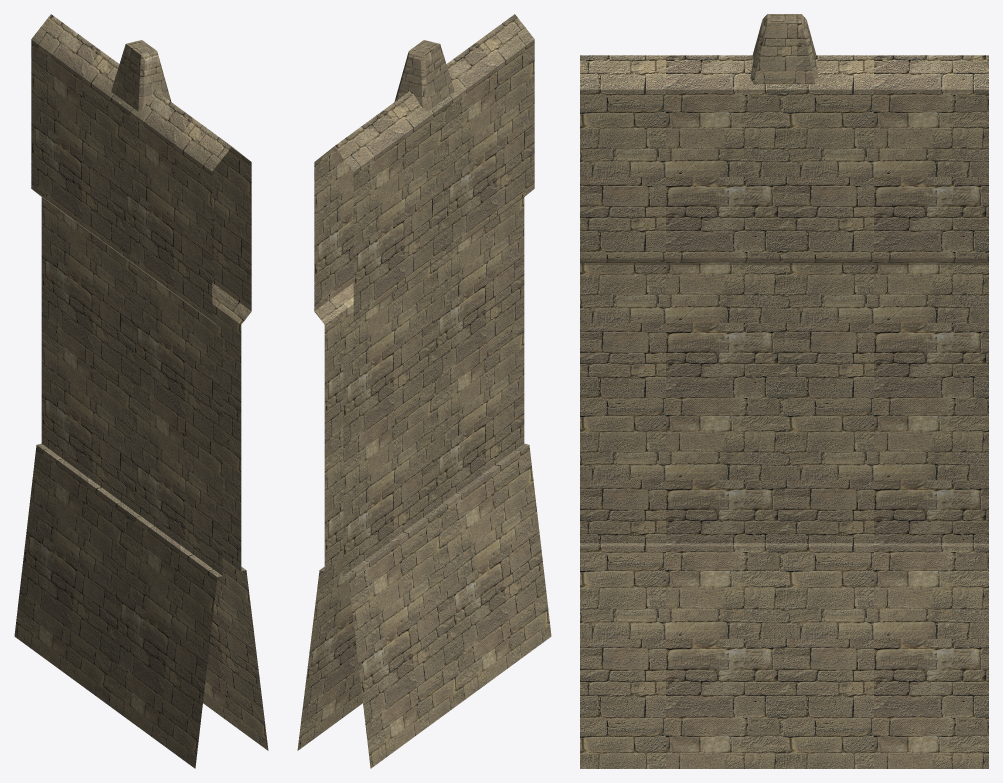
Rendered from Wall_C_1S.FBX.
The picture shows the model from 3 angles, left to right: view 1: azimuth 30°, elevation 25°; view 2: azimuth 150°, elevation 25°; view 3: azimuth 270°, elevation 25°; orthographic projection. The views are drawn at different scales.
Visible parts, largest first — view 1: Wall_C_1S; view 2: Wall_C_1S; view 3: Wall_C_1S.
Boxes of the visible parts, box(x1,y1,x2,y2) form: Wall_C_1S: box(14, 14, 268, 768); Wall_C_1S: box(297, 14, 551, 768); Wall_C_1S: box(580, 14, 988, 768).
Bounding box in the file's own units: 140 × 1182 × 600.
